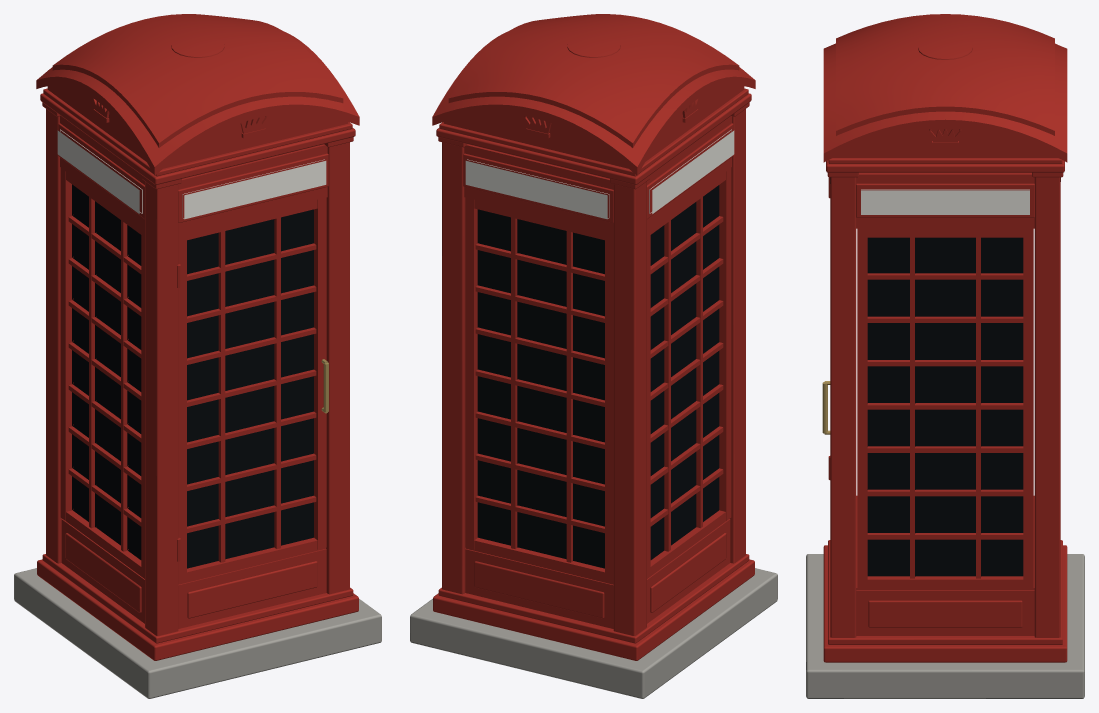
File: street.furniture.phone_box_b.glb
3 renders of one model, left to right at view 1: azimuth 30°, elevation 25°; view 2: azimuth 150°, elevation 25°; view 3: azimuth 270°, elevation 25°, orthographic. The views are drawn at different scales.
Visible parts, largest first — view 1: main__enamel_a22, main__glass_dark, main__concrete_a99, main__lens_eed; view 2: main__enamel_a22, main__glass_dark, main__concrete_a99, main__lens_eed; view 3: main__enamel_a22, main__glass_dark, main__concrete_a99, main__lens_eed.
Boxes of the visible parts, <box> form: main__enamel_a22: <box>36,14,359,660</box>; main__glass_dark: <box>72,184,313,568</box>; main__concrete_a99: <box>14,568,381,698</box>; main__lens_eed: <box>57,129,326,219</box>; main__enamel_a22: <box>432,14,755,660</box>; main__glass_dark: <box>477,185,719,568</box>; main__concrete_a99: <box>410,568,777,698</box>; main__lens_eed: <box>465,129,734,219</box>; main__enamel_a22: <box>823,14,1067,662</box>; main__glass_dark: <box>867,237,1023,576</box>; main__concrete_a99: <box>806,554,1084,698</box>; main__lens_eed: <box>861,189,1029,214</box>.
Bounding box in the file's own units: 1.12 × 2.64 × 1.12.
